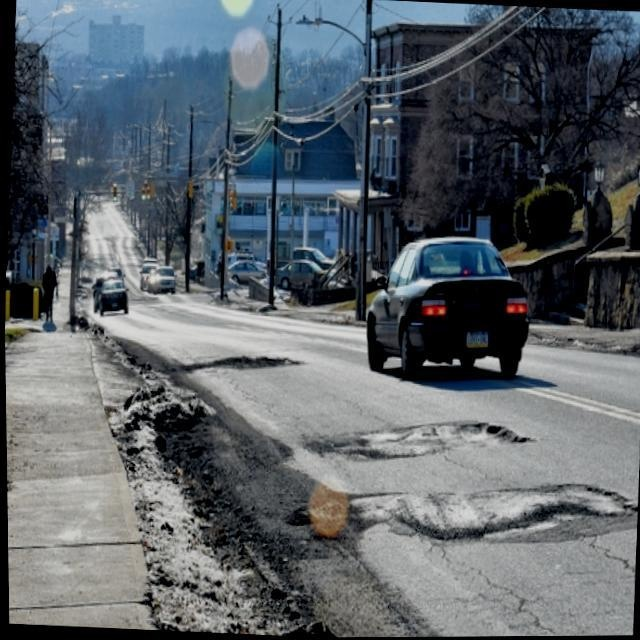pothole: (139, 391, 244, 538), (460, 423, 524, 443)
